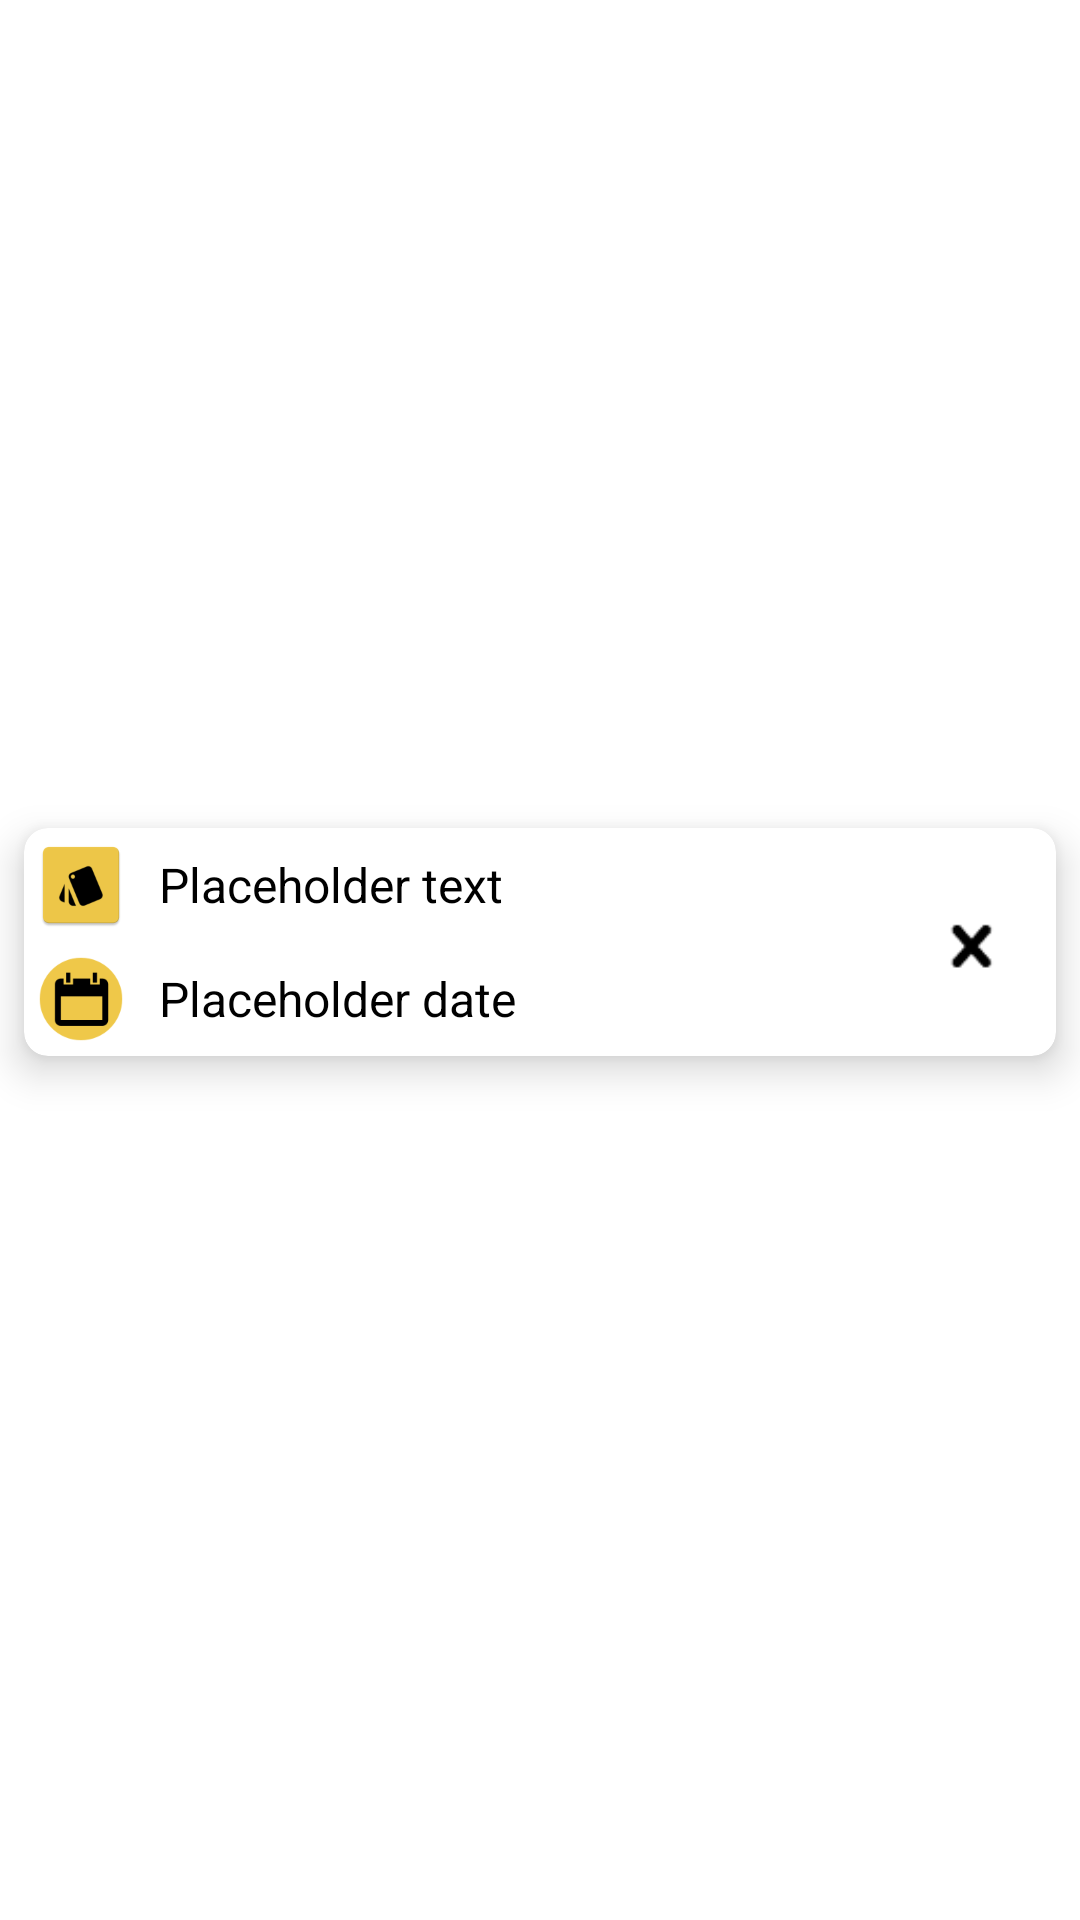

Where to tap for icons on this 1080 x 1920 app screen, as [x,y]:
date creation noti action: [81,999]
